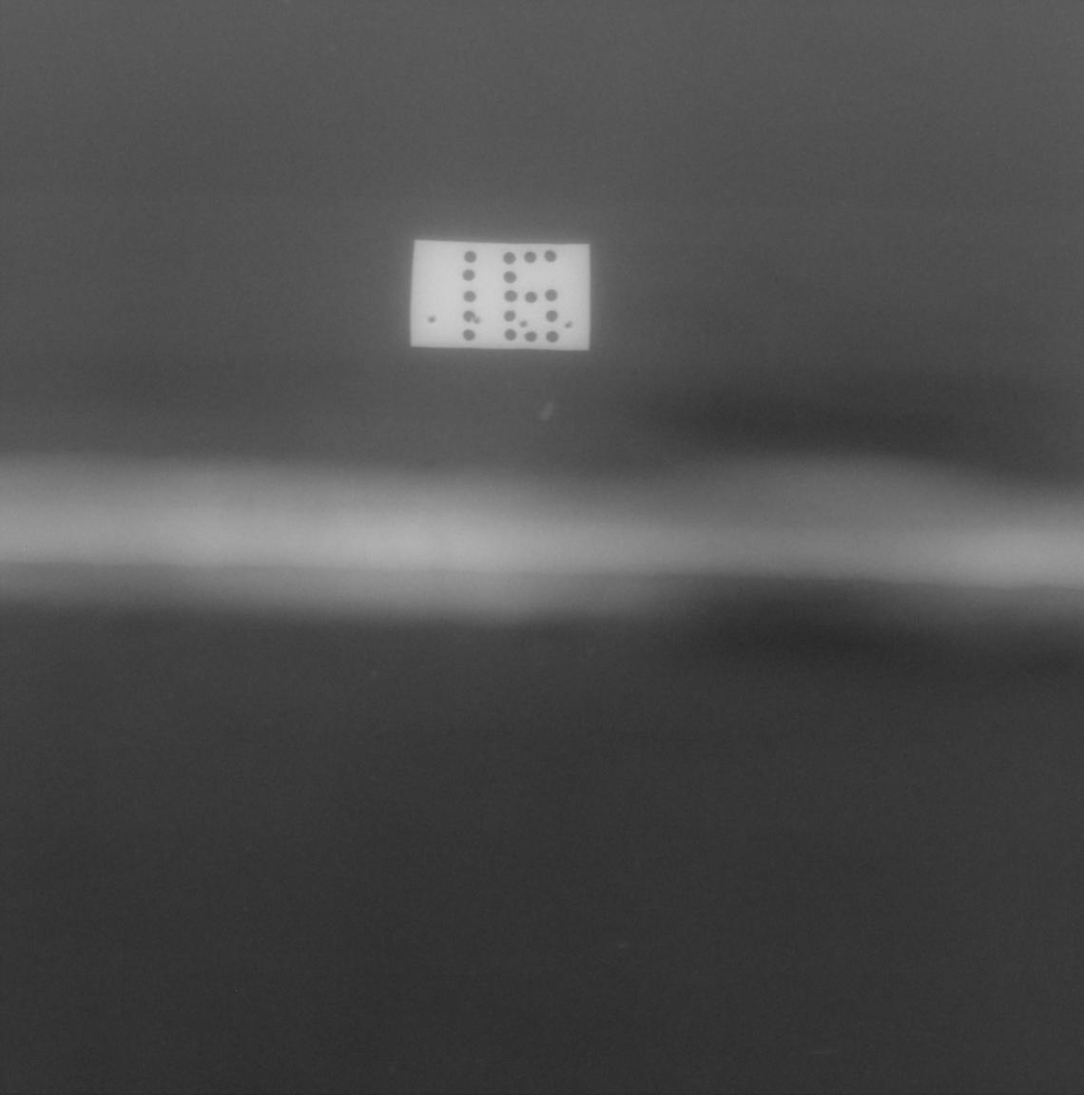Undercut: (423, 460, 437, 466)
